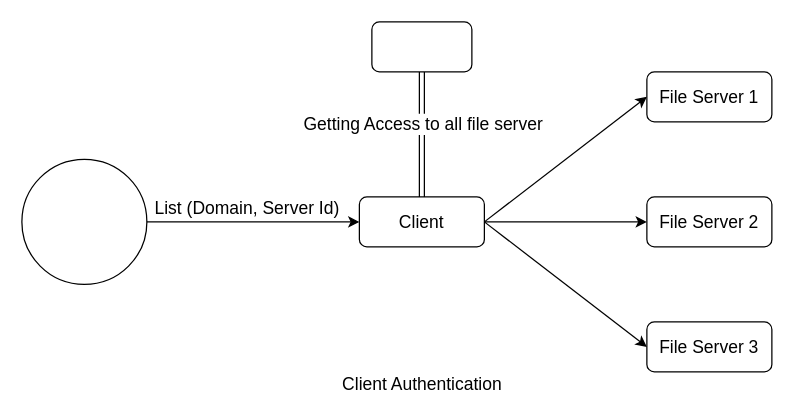
The diagram is 794 pixels wide and 419 high, and some of its shapes have lost their labels. The shapes that lost their labels are listed below. From the top down, each one's centre as x and y in pixels, then its label:
At point (421, 46): "KDC".
At point (84, 221): "Server Discovery".
